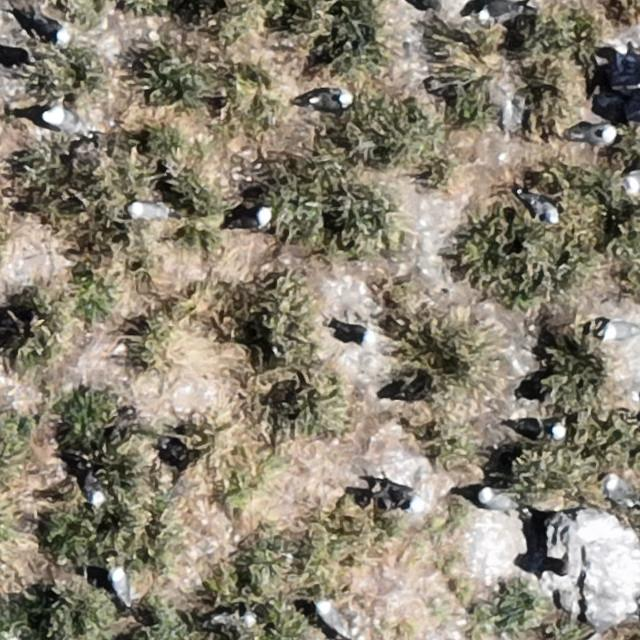umineko: (28, 13, 70, 44), (334, 320, 381, 346), (389, 486, 427, 512), (319, 602, 346, 634), (44, 111, 82, 133), (573, 124, 614, 144), (307, 90, 350, 109), (230, 210, 268, 230), (480, 2, 517, 21), (606, 476, 633, 502), (481, 492, 514, 512), (533, 198, 559, 223), (112, 570, 132, 602), (604, 323, 638, 341), (128, 202, 166, 218), (85, 474, 104, 504), (502, 100, 520, 130), (550, 423, 566, 442)
